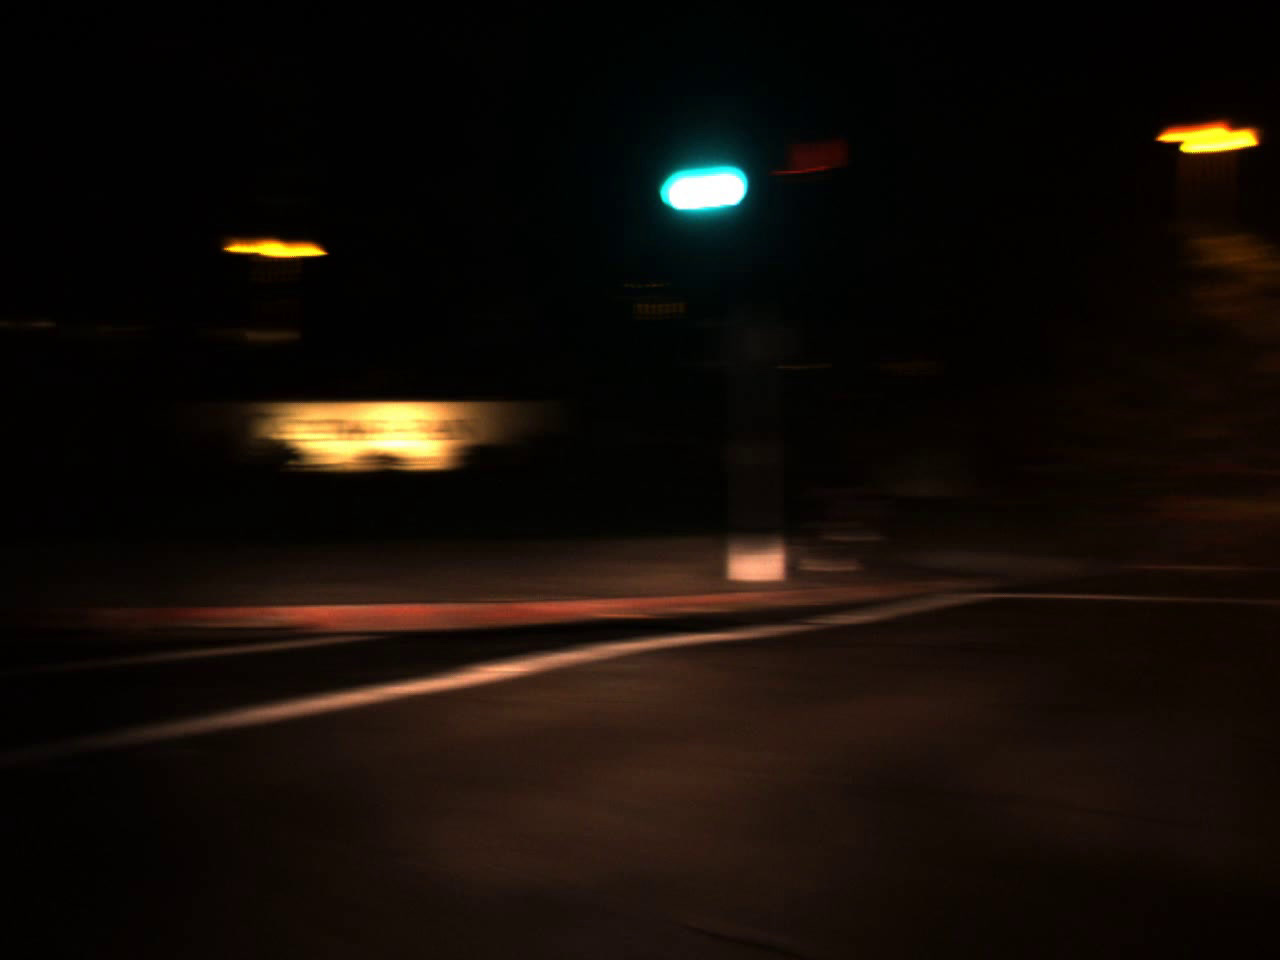go: (647, 107, 764, 227)
